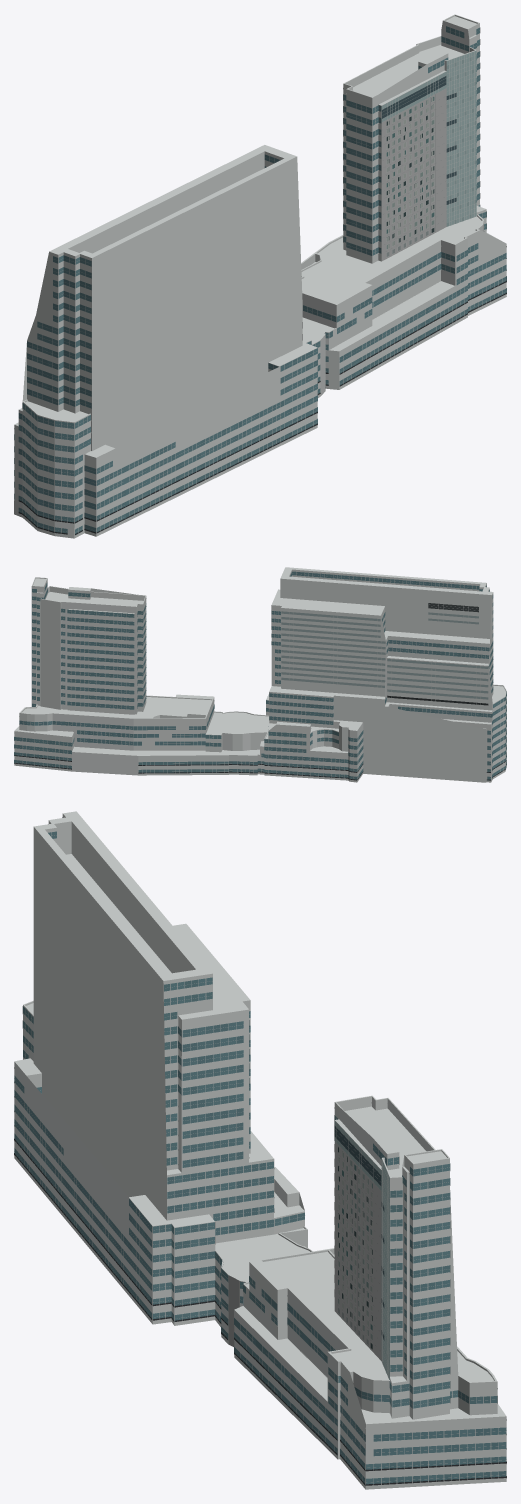
Rendered from mark-city.glb.
3 views of the same model, one above another, from view 1: azimuth 30°, elevation 25°; view 2: azimuth 150°, elevation 25°; view 3: azimuth 270°, elevation 25° (orthographic). The views are drawn at different scales.
Visible parts, largest first — view 1: mark-city_wall, mark-city_roof, mark-city_glass2, mark-city_glass0, mark-city_glass1, mark-city_spandrel, mark-city_east_hotel_wall, mark-city_east_curtain_pale, mark-city_east_window_frame, mark-city_frame, mark-city_sign_housing, mark-city_east_curtain_closed (+2 smaller); view 2: mark-city_wall, mark-city_roof, mark-city_glass1, mark-city_glass2, mark-city_glass0, mark-city_spandrel, mark-city_west_ribbon_glass, mark-city_west_lower_glass, mark-city_frame, mark-city_sign_housing, mark-city_west_ribbon_frame, mark-city_west_lower_frame (+3 smaller); view 3: mark-city_wall, mark-city_roof, mark-city_glass2, mark-city_glass1, mark-city_glass0, mark-city_spandrel, mark-city_east_hotel_wall, mark-city_frame, mark-city_east_curtain_pale, mark-city_sign_housing, mark-city_east_window_frame, mark-city_east_curtain_closed.
Boxes of the visible parts, left/top/right/bottom form: mark-city_wall: left=14, top=15, right=506, bottom=538; mark-city_roof: left=14, top=14, right=500, bottom=457; mark-city_glass2: left=14, top=29, right=506, bottom=534; mark-city_glass0: left=14, top=27, right=506, bottom=533; mark-city_glass1: left=14, top=26, right=502, bottom=531; mark-city_spandrel: left=14, top=33, right=506, bottom=536; mark-city_east_hotel_wall: left=381, top=88, right=446, bottom=261; mark-city_east_curtain_pale: left=381, top=50, right=476, bottom=225; mark-city_east_window_frame: left=382, top=52, right=476, bottom=257; mark-city_frame: left=19, top=27, right=506, bottom=535; mark-city_sign_housing: left=18, top=281, right=506, bottom=534; mark-city_east_curtain_closed: left=386, top=97, right=434, bottom=248; mark-city_wall: left=14, top=569, right=506, bottom=782; mark-city_roof: left=14, top=567, right=506, bottom=755; mark-city_glass1: left=14, top=572, right=506, bottom=780; mark-city_glass2: left=14, top=571, right=506, bottom=778; mark-city_glass0: left=14, top=572, right=506, bottom=779; mark-city_spandrel: left=14, top=575, right=506, bottom=781; mark-city_west_ribbon_glass: left=281, top=611, right=385, bottom=687; mark-city_west_lower_glass: left=387, top=659, right=488, bottom=699; mark-city_frame: left=17, top=573, right=504, bottom=779; mark-city_sign_housing: left=14, top=755, right=506, bottom=780; mark-city_west_ribbon_frame: left=281, top=611, right=384, bottom=687; mark-city_west_lower_frame: left=387, top=658, right=487, bottom=705; mark-city_wall: left=14, top=813, right=506, bottom=1489; mark-city_roof: left=14, top=811, right=505, bottom=1424; mark-city_glass2: left=14, top=817, right=506, bottom=1484; mark-city_glass1: left=14, top=831, right=506, bottom=1483; mark-city_glass0: left=14, top=979, right=506, bottom=1485; mark-city_spandrel: left=14, top=838, right=506, bottom=1486; mark-city_east_hotel_wall: left=334, top=1141, right=381, bottom=1360; mark-city_frame: left=14, top=817, right=505, bottom=1484; mark-city_east_curtain_pale: left=334, top=1121, right=389, bottom=1379; mark-city_sign_housing: left=14, top=1139, right=506, bottom=1485; mark-city_east_window_frame: left=334, top=1120, right=389, bottom=1370; mark-city_east_curtain_closed: left=338, top=1148, right=372, bottom=1335.
Bounding box in the file's own units: 256 × 112 × 151.
